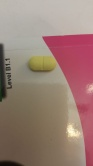Aferin: (28, 55, 57, 73)
